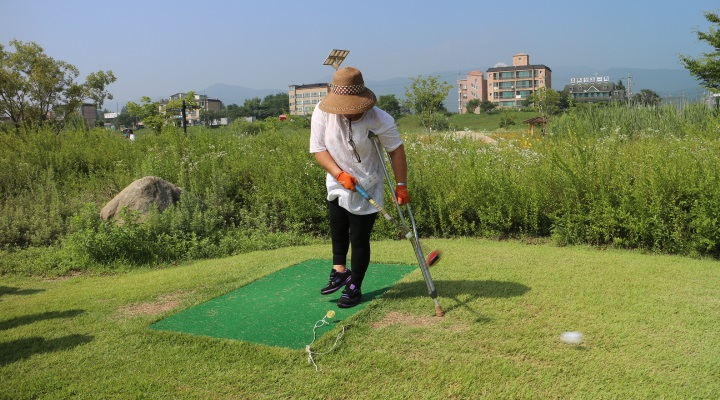crutches: (308, 67, 444, 320)
